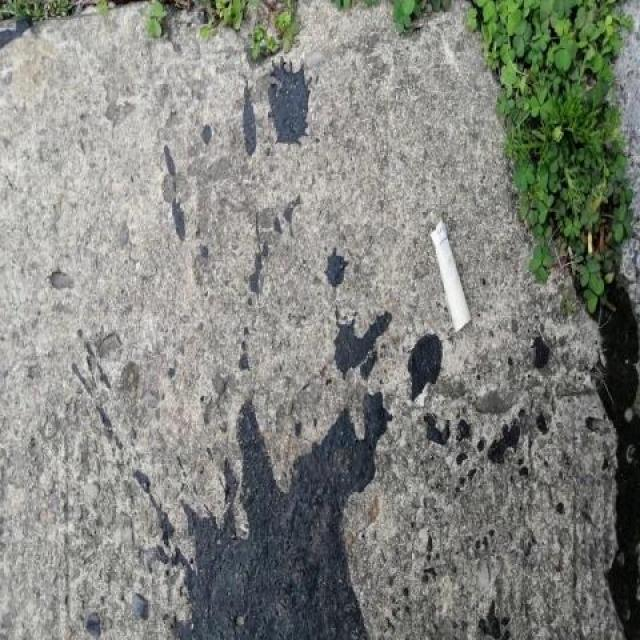non-organic waste: (421, 214, 476, 334)
